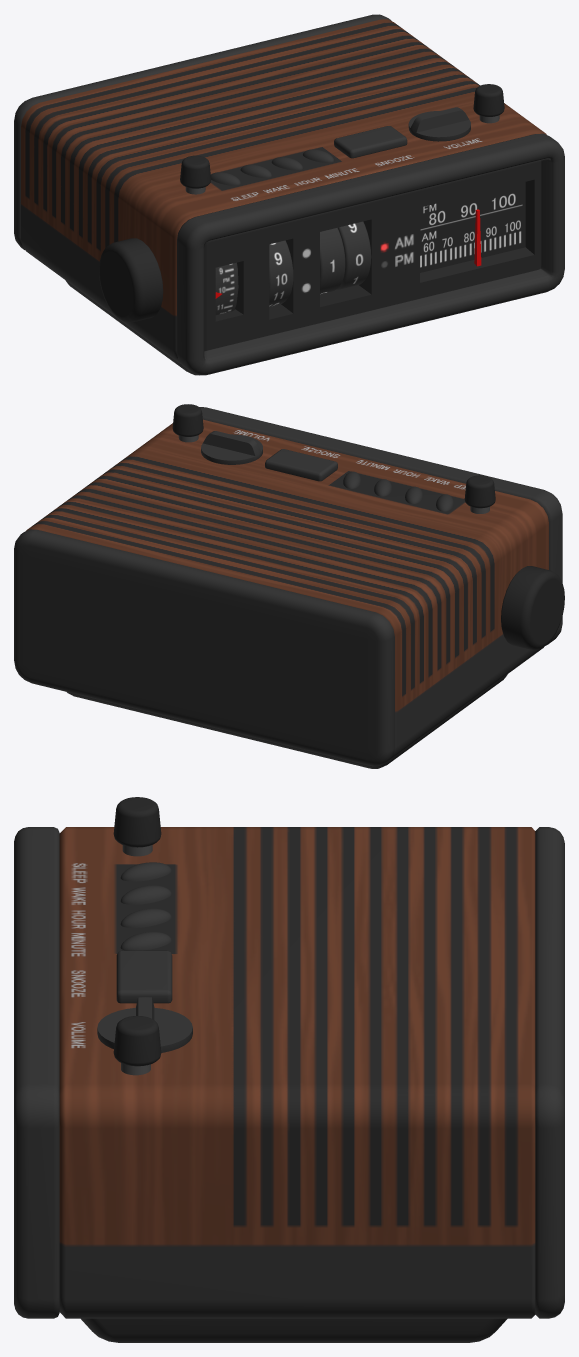
File: alarm-clock-v2.glb
3 renders of one model, top to bottom at view 1: azimuth 30°, elevation 25°; view 2: azimuth 150°, elevation 25°; view 3: azimuth 270°, elevation 25°, orthographic. The views are drawn at different scales.
Visible parts, largest first — view 1: clock_alarm_nostalgic_base_stylized_01_lod0, clock_alarm_nostalgic_base_stylized_02_lod0; view 2: clock_alarm_nostalgic_base_stylized_01_lod0; view 3: clock_alarm_nostalgic_base_stylized_01_lod0.
Boxes of the visible parts, x1,y1,x2,y2 form: clock_alarm_nostalgic_base_stylized_01_lod0: [14, 14, 564, 375]; clock_alarm_nostalgic_base_stylized_02_lod0: [207, 161, 551, 359]; clock_alarm_nostalgic_base_stylized_01_lod0: [14, 404, 564, 768]; clock_alarm_nostalgic_base_stylized_01_lod0: [14, 797, 564, 1342].
Size of the model in its own units: 16.93 by 8.69 by 13.02.
Materials: 2 (2 with a texture image).
